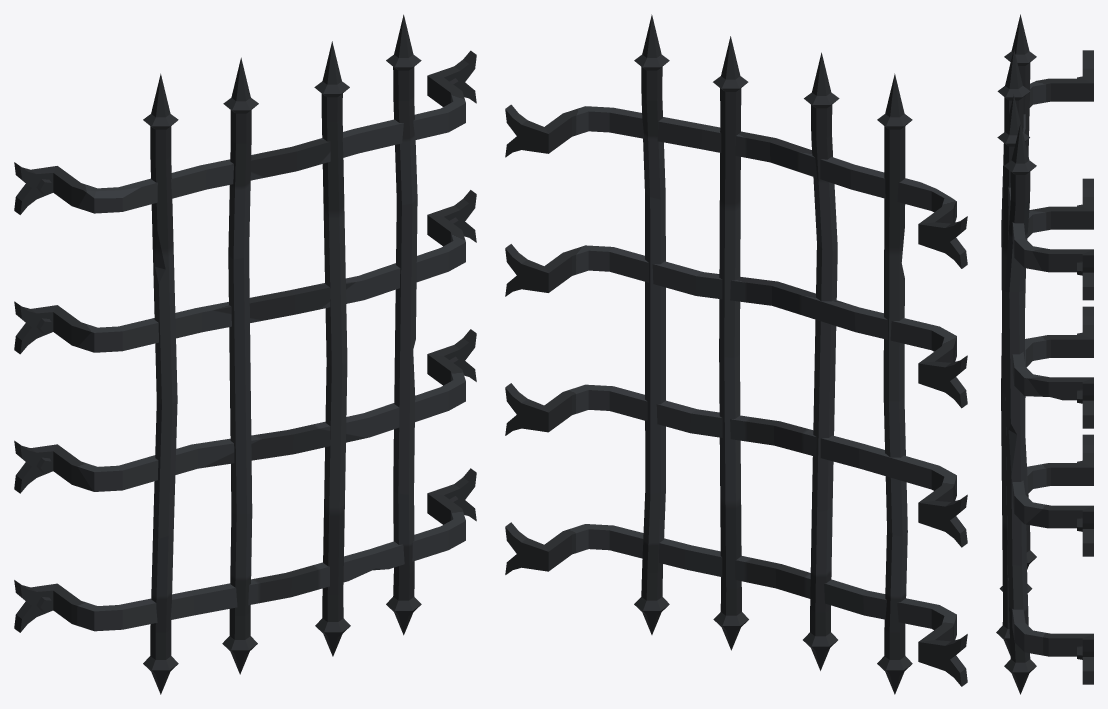
Rendered from SM_Bld_Wall_Window_Bars_02.fbx.
3 renders of one model, left to right at view 1: azimuth 30°, elevation 25°; view 2: azimuth 150°, elevation 25°; view 3: azimuth 270°, elevation 25°, orthographic. The views are drawn at different scales.
Visible parts, largest first — view 1: SM_Bld_Wall_Window_Bars_02; view 2: SM_Bld_Wall_Window_Bars_02; view 3: SM_Bld_Wall_Window_Bars_02.
Boxes of the visible parts, box(x1,y1,x2,y2) form: SM_Bld_Wall_Window_Bars_02: box(14, 14, 476, 694); SM_Bld_Wall_Window_Bars_02: box(505, 14, 967, 694); SM_Bld_Wall_Window_Bars_02: box(996, 14, 1093, 694).
Bounding box in the file's own units: 184 × 239 × 37.09.
